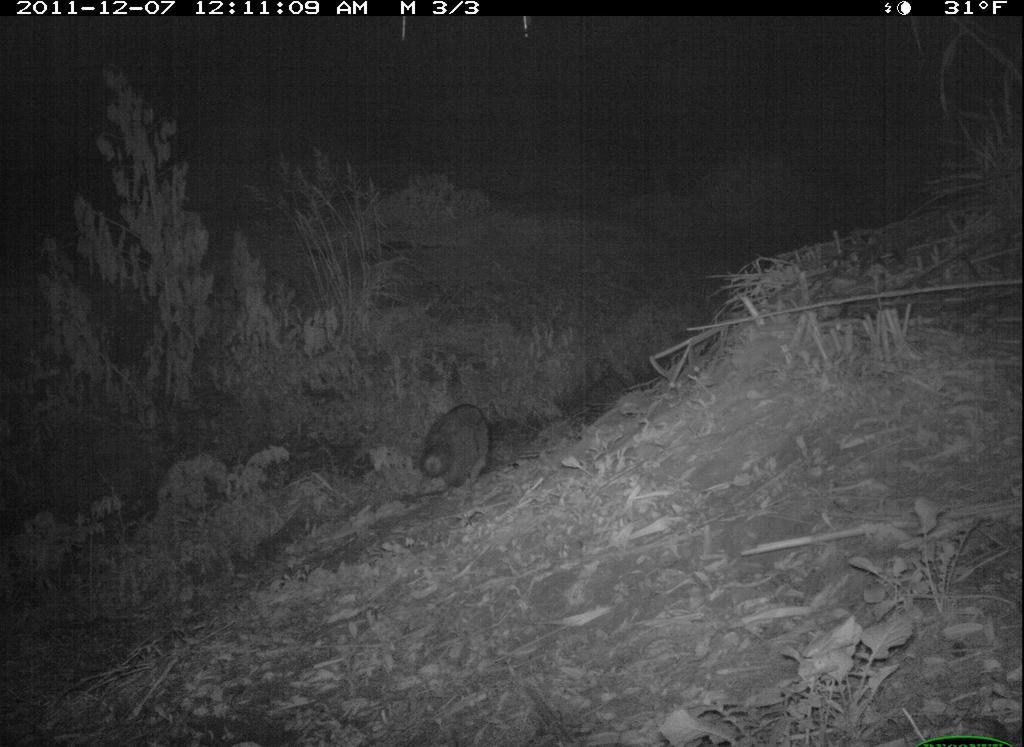raccoon: (411, 396, 502, 499)
